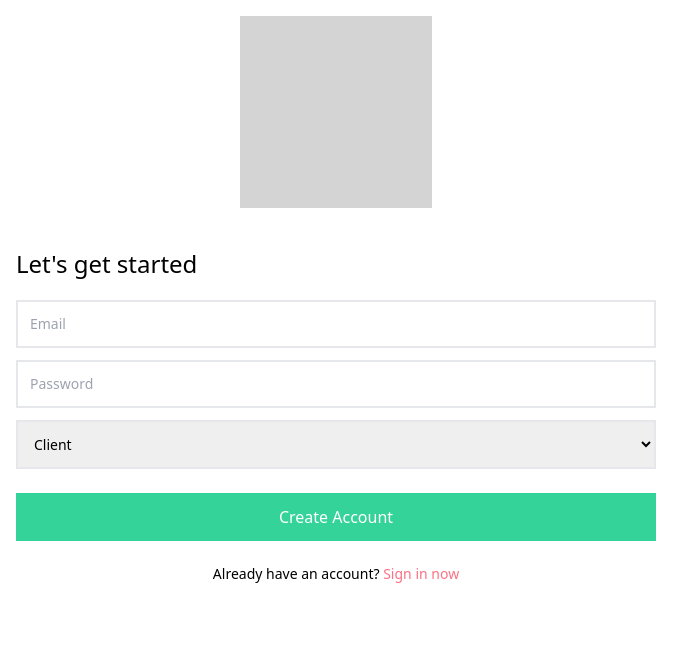
it: <SignUpScreen /> › renders validation errors
Note: email validation
Type "test@test" into the field with placeholder "Email" at {"x": 336, "y": 324}, box [16, 300, 656, 348]
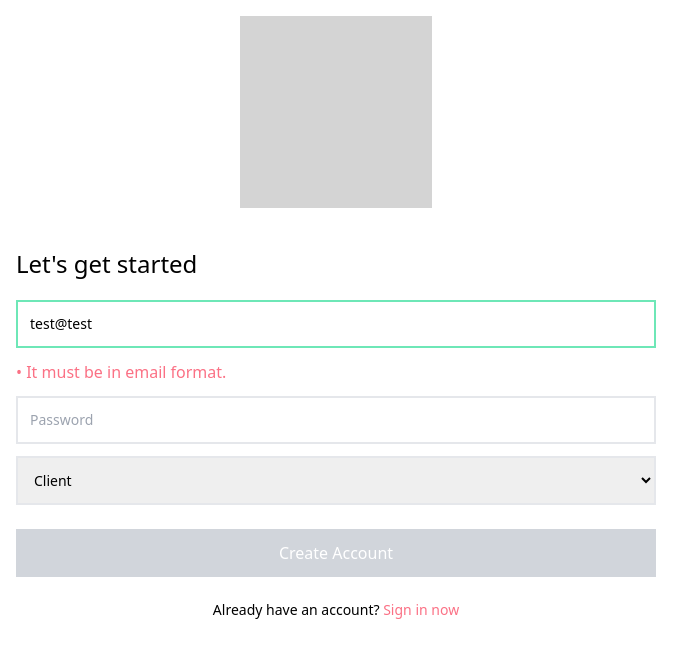
Now the text "• It must be in email format." is shown, box [16, 361, 226, 383]
Note: password validation
Type "123" into the password field with placeholder "Password" at {"x": 336, "y": 420}, box [16, 396, 656, 444]
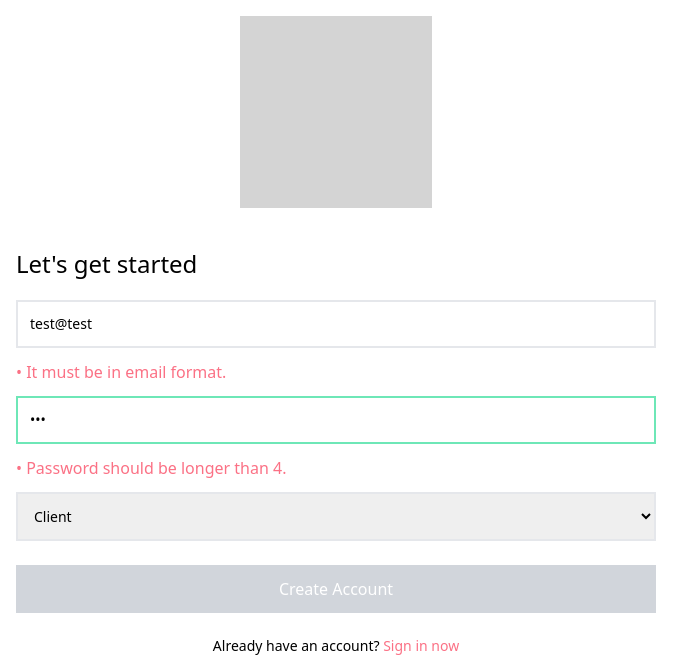
Now the text "• Password should be longer than 4." is shown, box [16, 457, 286, 479]
